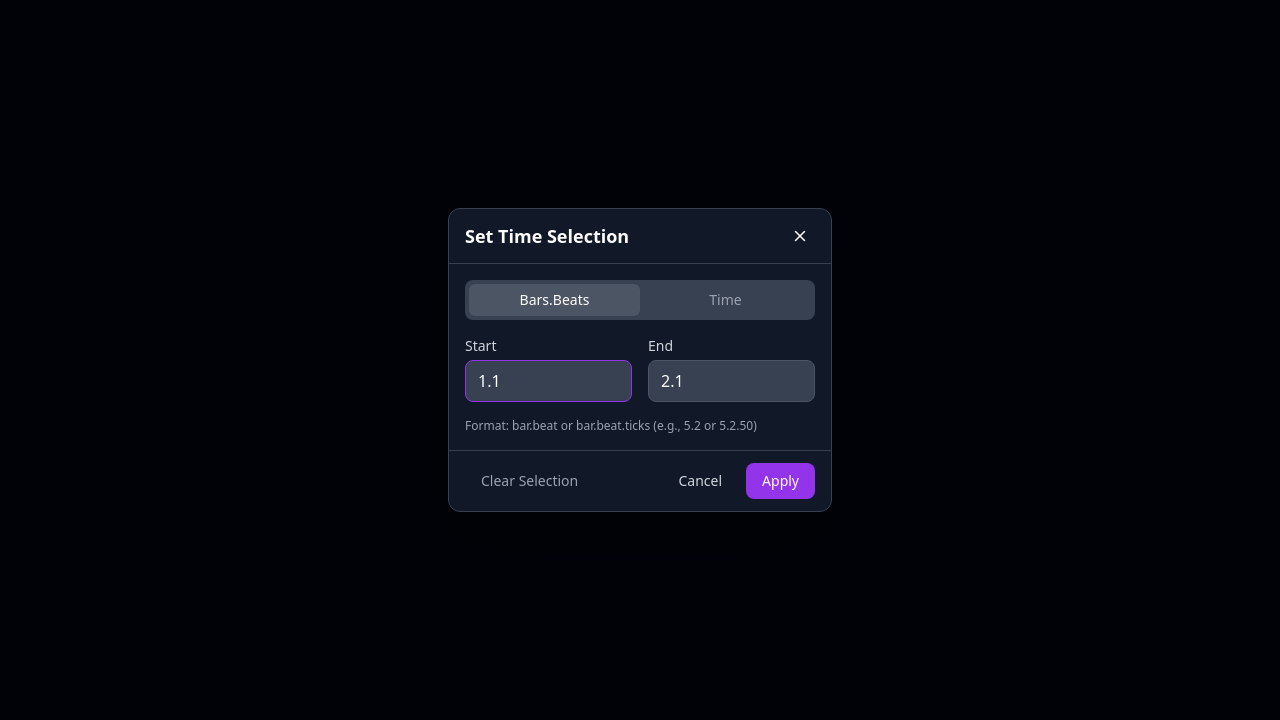
Test: MakeSelectionModal › sets nothing when REAPER cannot place a bar, and says so
Type "-3.1" into the field below "Start".
click(548, 381); type("-3.1")  # box [465,360,632,402]
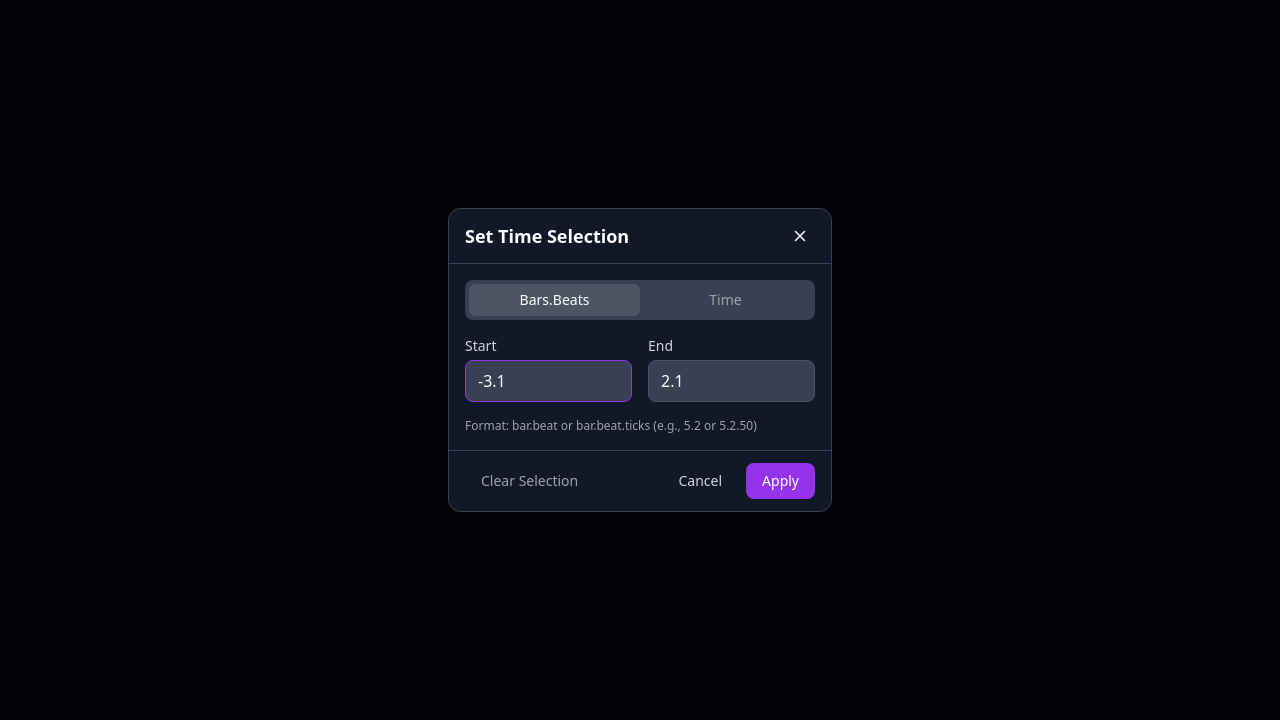
Click the button "Apply".
click(781, 481)  # box [746,463,815,499]
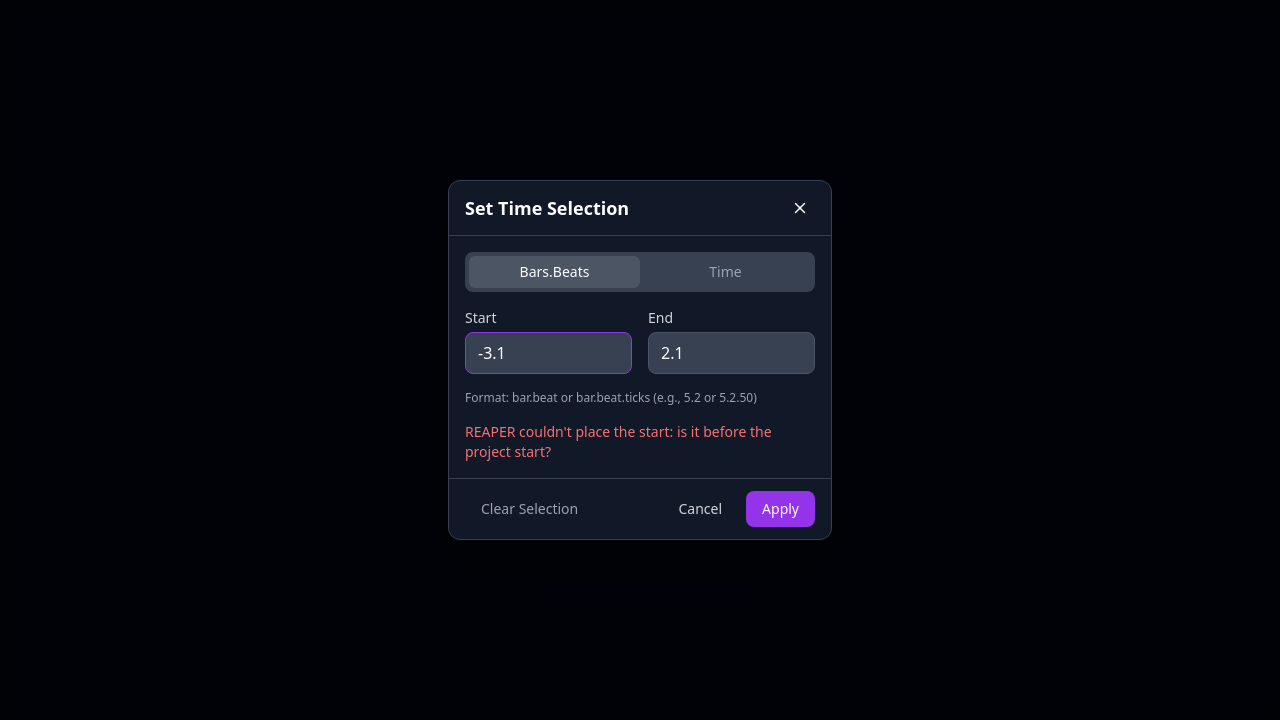
Expected: the text "REAPER couldn't place the start" is shown, [465,422,772,461]
